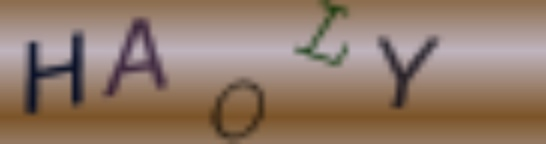A: (102, 13, 176, 101)
H: (19, 28, 93, 121)
L: (293, 1, 356, 66)
O: (206, 75, 269, 143)
Y: (372, 30, 445, 113)
